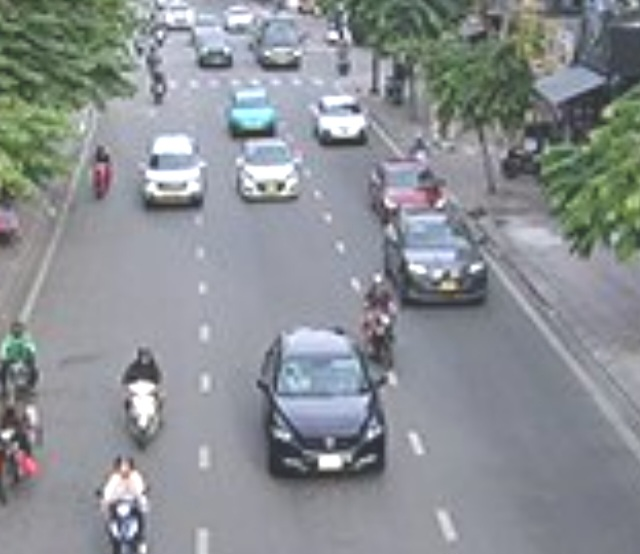car: (262, 326, 386, 478), (387, 216, 494, 306), (141, 133, 204, 210), (371, 159, 447, 219), (238, 139, 300, 200), (309, 95, 369, 146), (228, 91, 275, 137)
